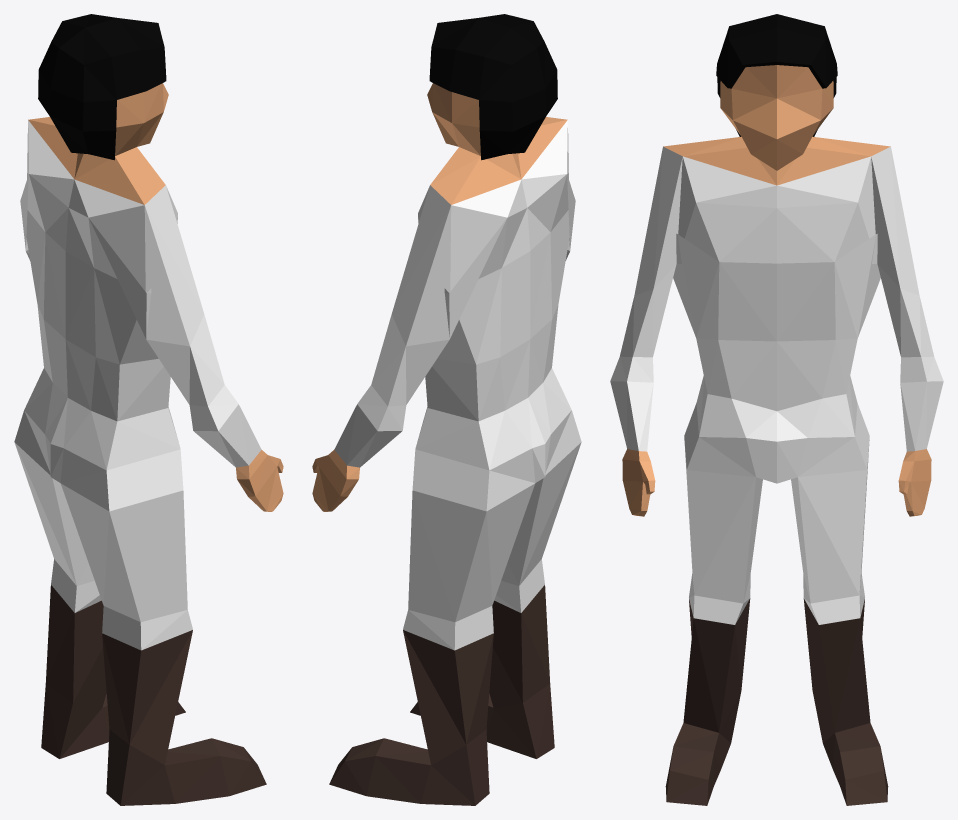
The model's file is Syrianv4.obj.
3 renders of one model, left to right at view 1: azimuth 30°, elevation 25°; view 2: azimuth 150°, elevation 25°; view 3: azimuth 270°, elevation 25°, orthographic. The views are drawn at different scales.
Visible parts, largest first — view 1: body_Cube, hair_Cube.001; view 2: body_Cube, hair_Cube.001; view 3: body_Cube, hair_Cube.001.
Part boxes in pixels (x1,y1,x2,y2): body_Cube: (14, 83, 283, 805); hair_Cube.001: (38, 14, 166, 160); body_Cube: (312, 83, 581, 805); hair_Cube.001: (429, 14, 557, 160); body_Cube: (610, 65, 943, 805); hair_Cube.001: (716, 14, 837, 136).
Bounding box in the file's own units: 3.75 × 15.61 × 6.44.
1 material, 1 textured.
